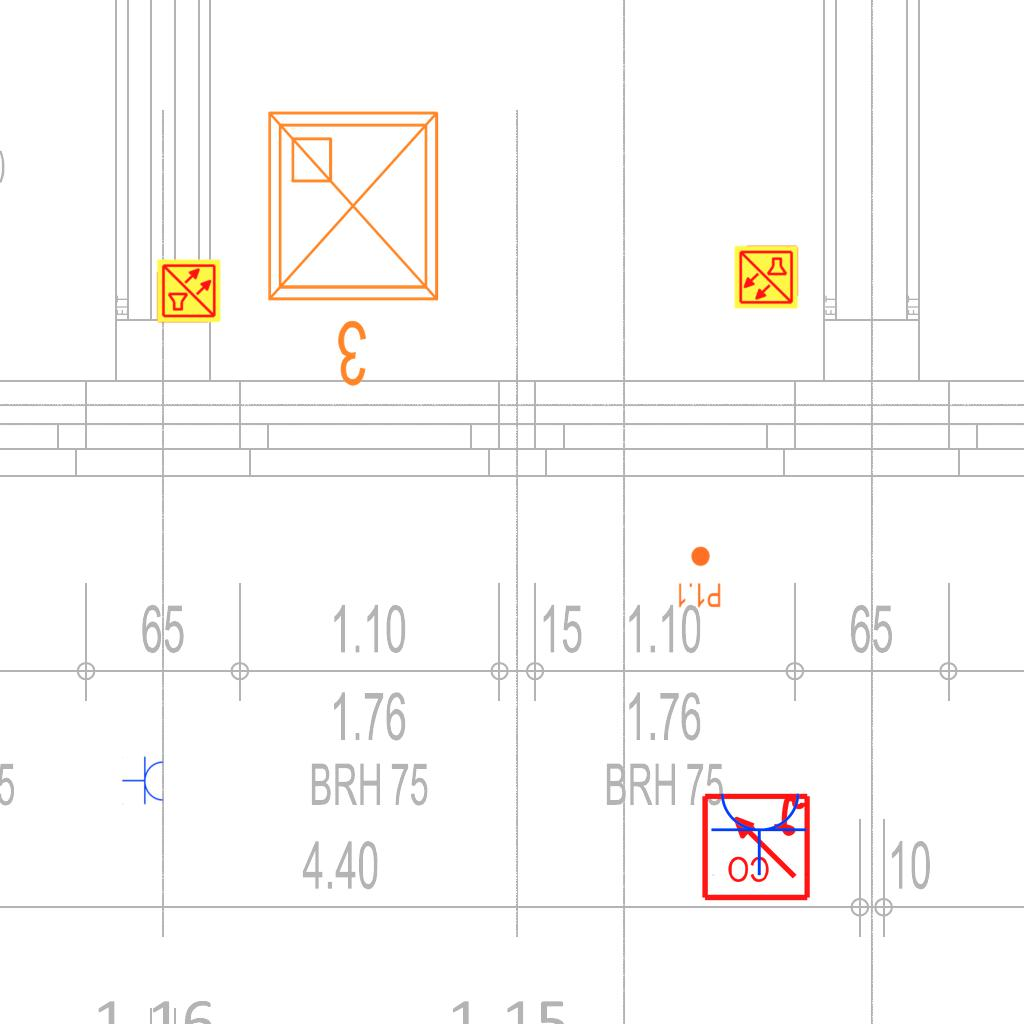Downlight_LED_Einbauleuchten_Flur: (676, 545, 722, 609)
Einbaudownlights_LED_Konferenzraeume: (253, 97, 461, 397)
OKW_Multisensormelder_(Kombination_optischer_Rauch-Kahlenmonoxid_Waerme-Melder): (156, 258, 222, 324), (733, 244, 799, 310)
ROA_Rauchmelder_optisch_mit_Signalgeber_(Sockelsirene): (699, 789, 812, 902)
Schukosteckdose_einfach: (710, 789, 810, 876), (122, 756, 165, 806)
